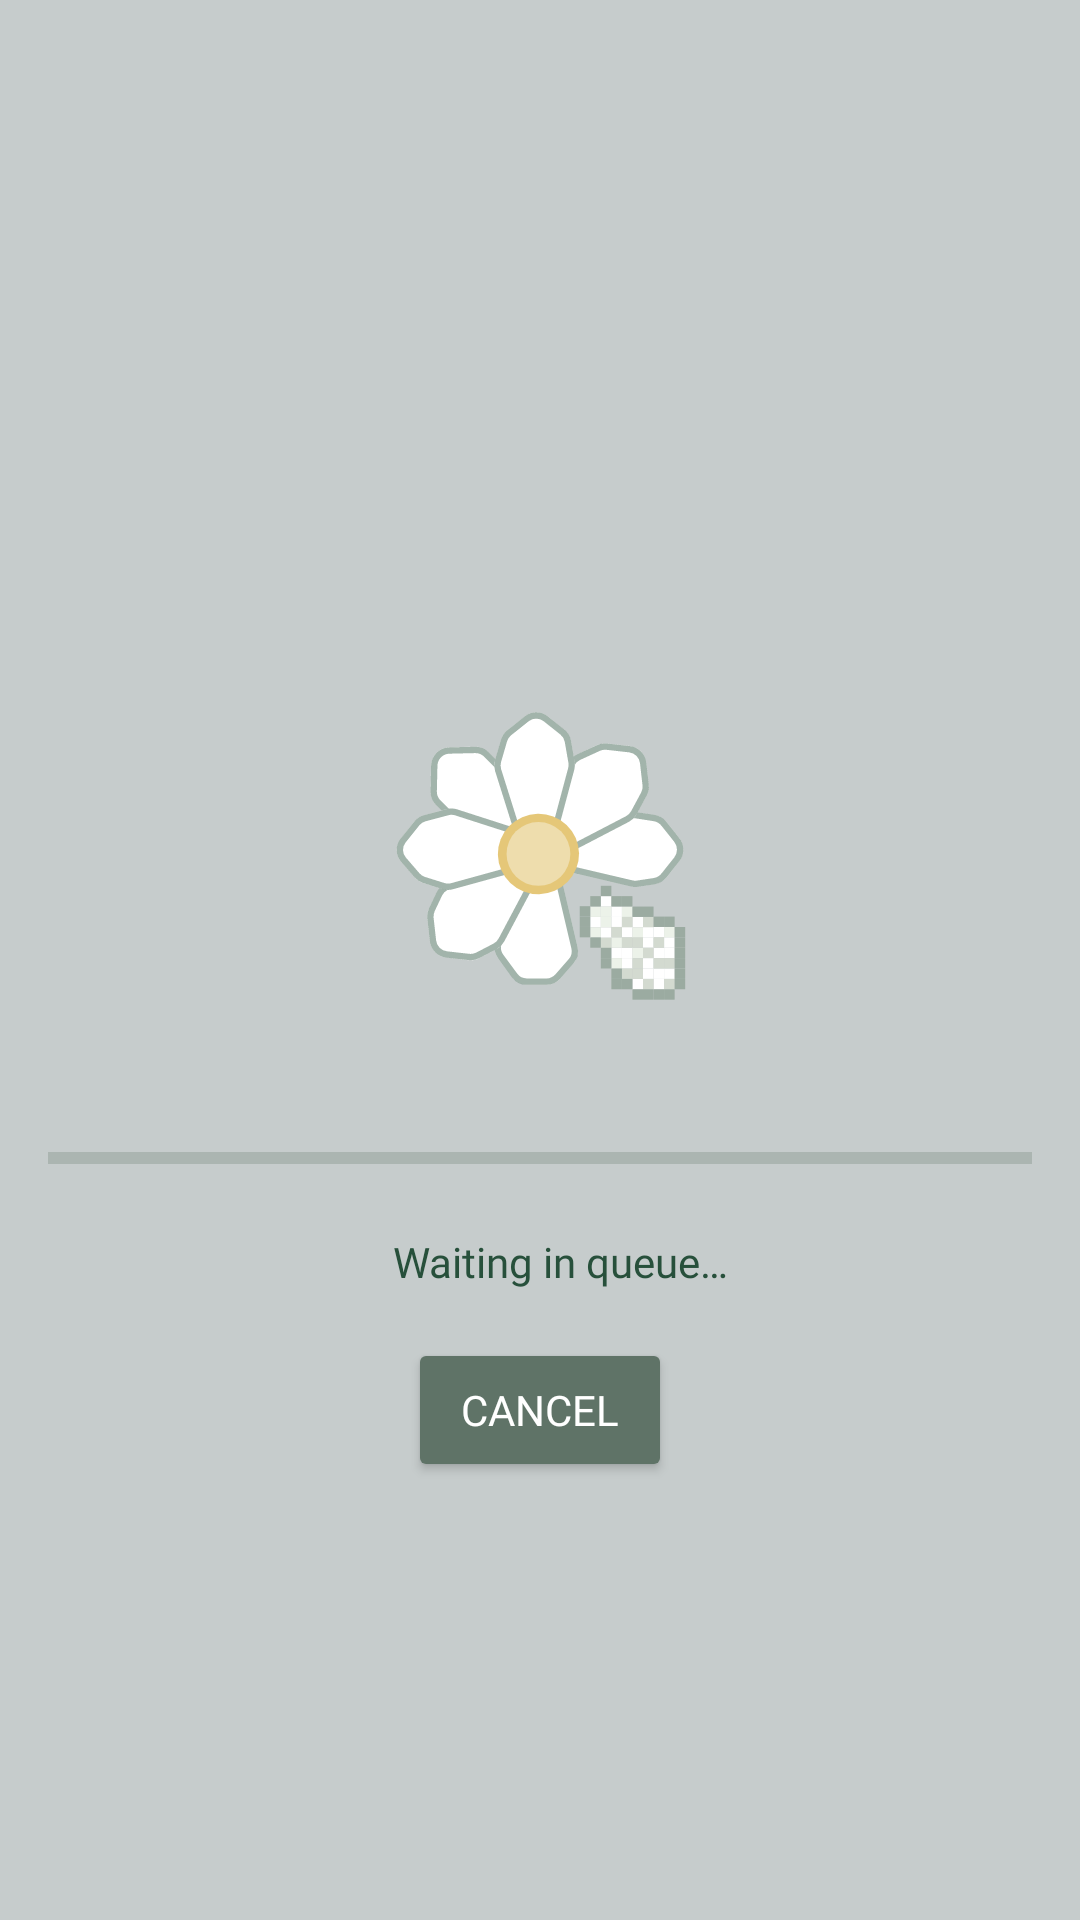

Where to tap for icons on this 1080px x 1920px app screen, as (x=x, y=y):
flower animation loop: (x=541, y=856)
